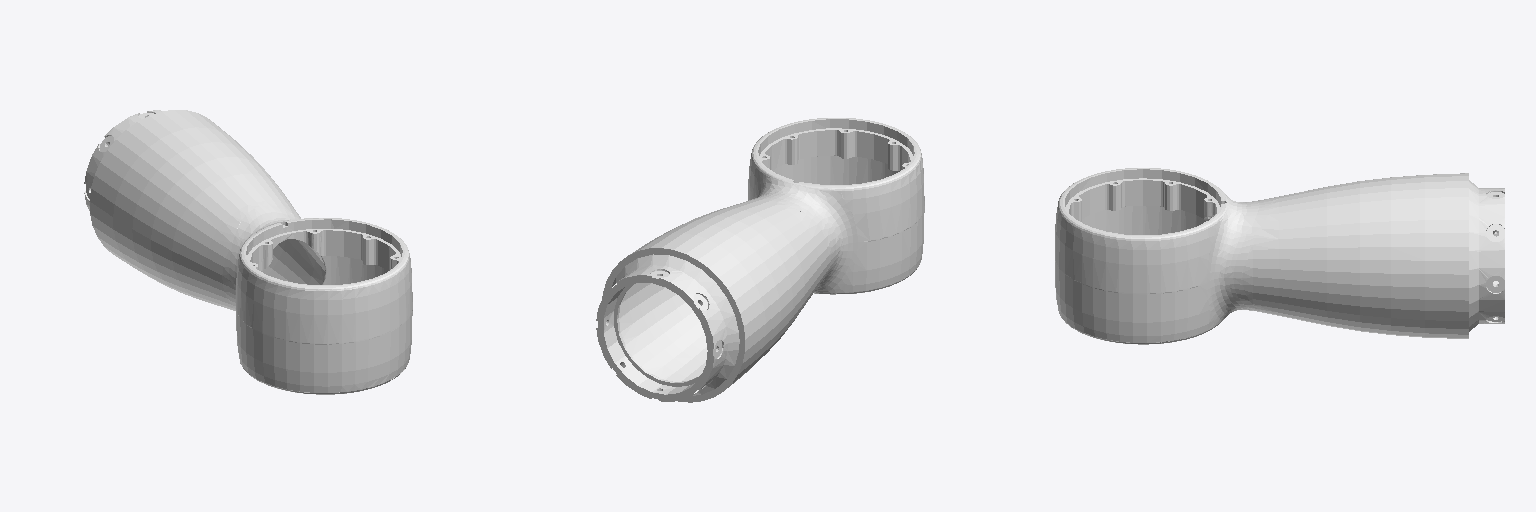
Rendered from left_arm_link3.obj.
3 renders of one model, left to right at view 1: azimuth 30°, elevation 25°; view 2: azimuth 150°, elevation 25°; view 3: azimuth 270°, elevation 25°, orthographic.
Visible parts, largest first — view 1: Link3; view 2: Link3; view 3: Link3.
Boxes of the visible parts, x1=… form: Link3: x1=84, y1=110, x2=412, y2=394; Link3: x1=596, y1=118, x2=924, y2=402; Link3: x1=1055, y1=168, x2=1504, y2=344.
Size of the model in its own units: 0.0878 by 0.0825 by 0.224.